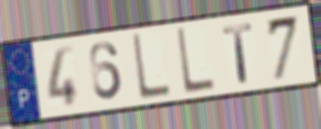4: (45, 44, 82, 109)
6: (88, 41, 125, 103)
7: (264, 14, 303, 82)
L: (174, 25, 217, 97), (130, 31, 172, 103)
T: (220, 20, 256, 85)
